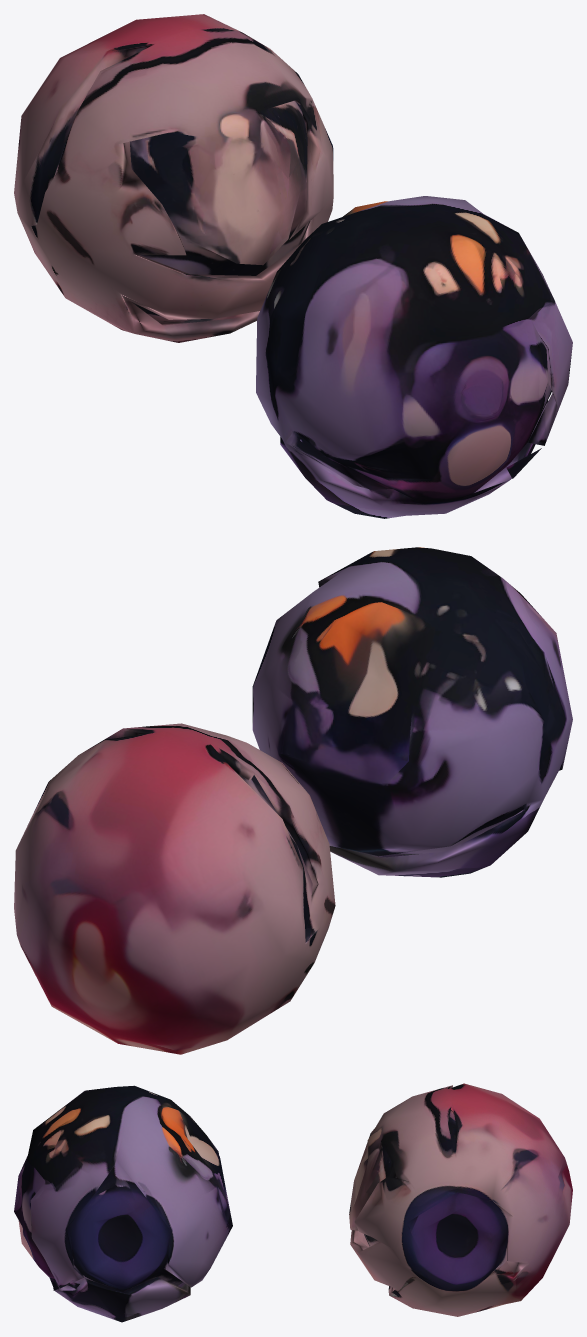
The model's file is eyeball+3d+model.obj.
3 views of the same model, one above another, from view 1: azimuth 30°, elevation 25°; view 2: azimuth 150°, elevation 25°; view 3: azimuth 270°, elevation 25° (orthographic). The views are drawn at different scales.
Parts seen in each view (by area): view 1: tripo_node_c84ee303-d57e-4bce-80b9-e6928614d24c; view 2: tripo_node_c84ee303-d57e-4bce-80b9-e6928614d24c; view 3: tripo_node_c84ee303-d57e-4bce-80b9-e6928614d24c.
Boxes of the visible parts, bbox=[...] form: tripo_node_c84ee303-d57e-4bce-80b9-e6928614d24c: bbox=[14, 14, 572, 518]; tripo_node_c84ee303-d57e-4bce-80b9-e6928614d24c: bbox=[14, 547, 572, 1054]; tripo_node_c84ee303-d57e-4bce-80b9-e6928614d24c: bbox=[14, 1083, 572, 1322].
Size of the model in its own units: 0.3877 by 0.4269 by 1.
1 material, 1 textured.
